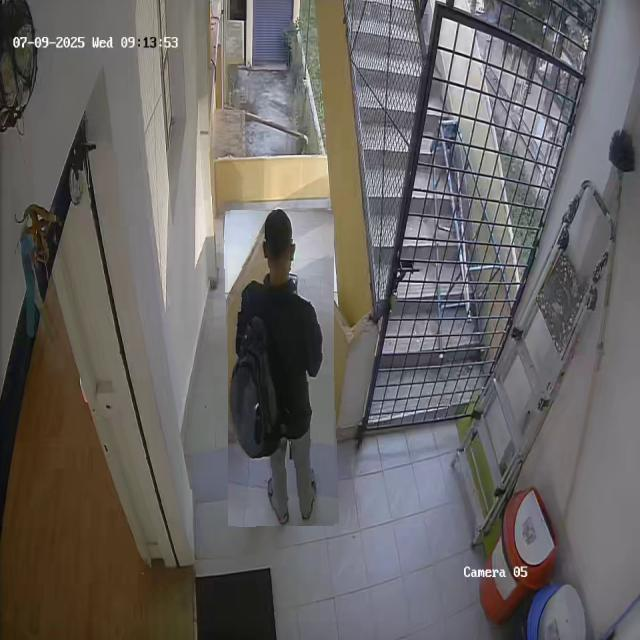person: (226, 209, 336, 527)
